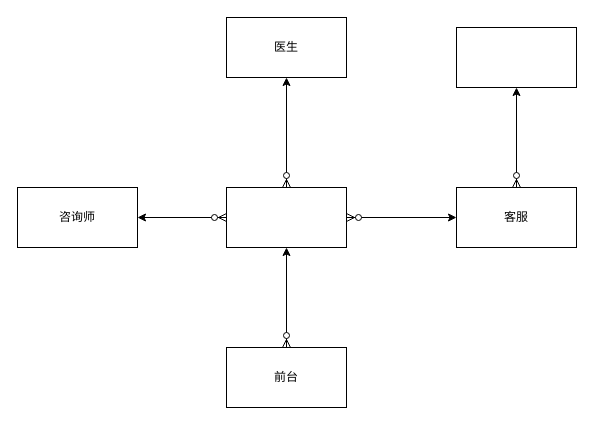
Some shapes in this 594 by 425 pixel diagram are drawn without their labels. Here are the shapes that lost their labels. From the top down, the centre of each, then its label:
At point 516,57: "营销主管".
At point 286,217: "用户".
